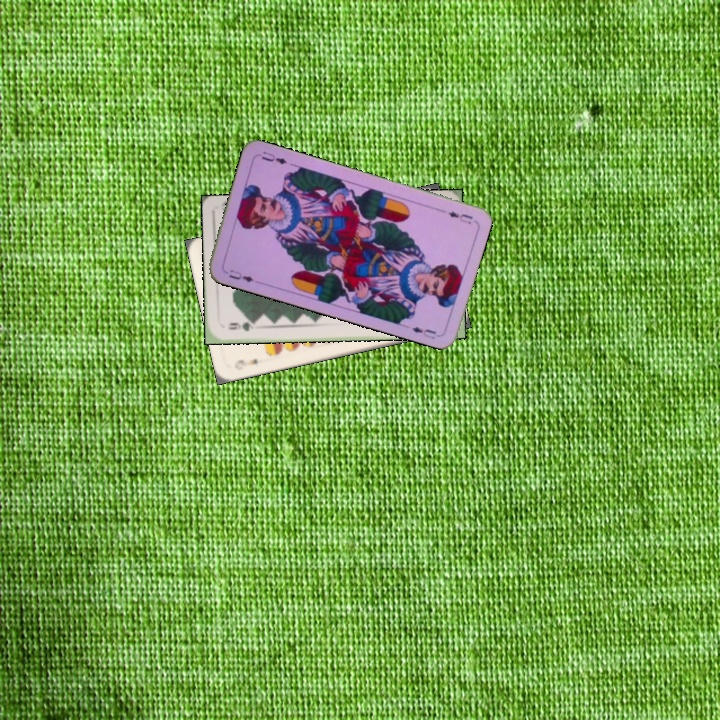E9: (231, 355, 260, 372)
EU: (436, 205, 475, 227), (225, 265, 261, 285)
G9: (224, 318, 259, 334)
